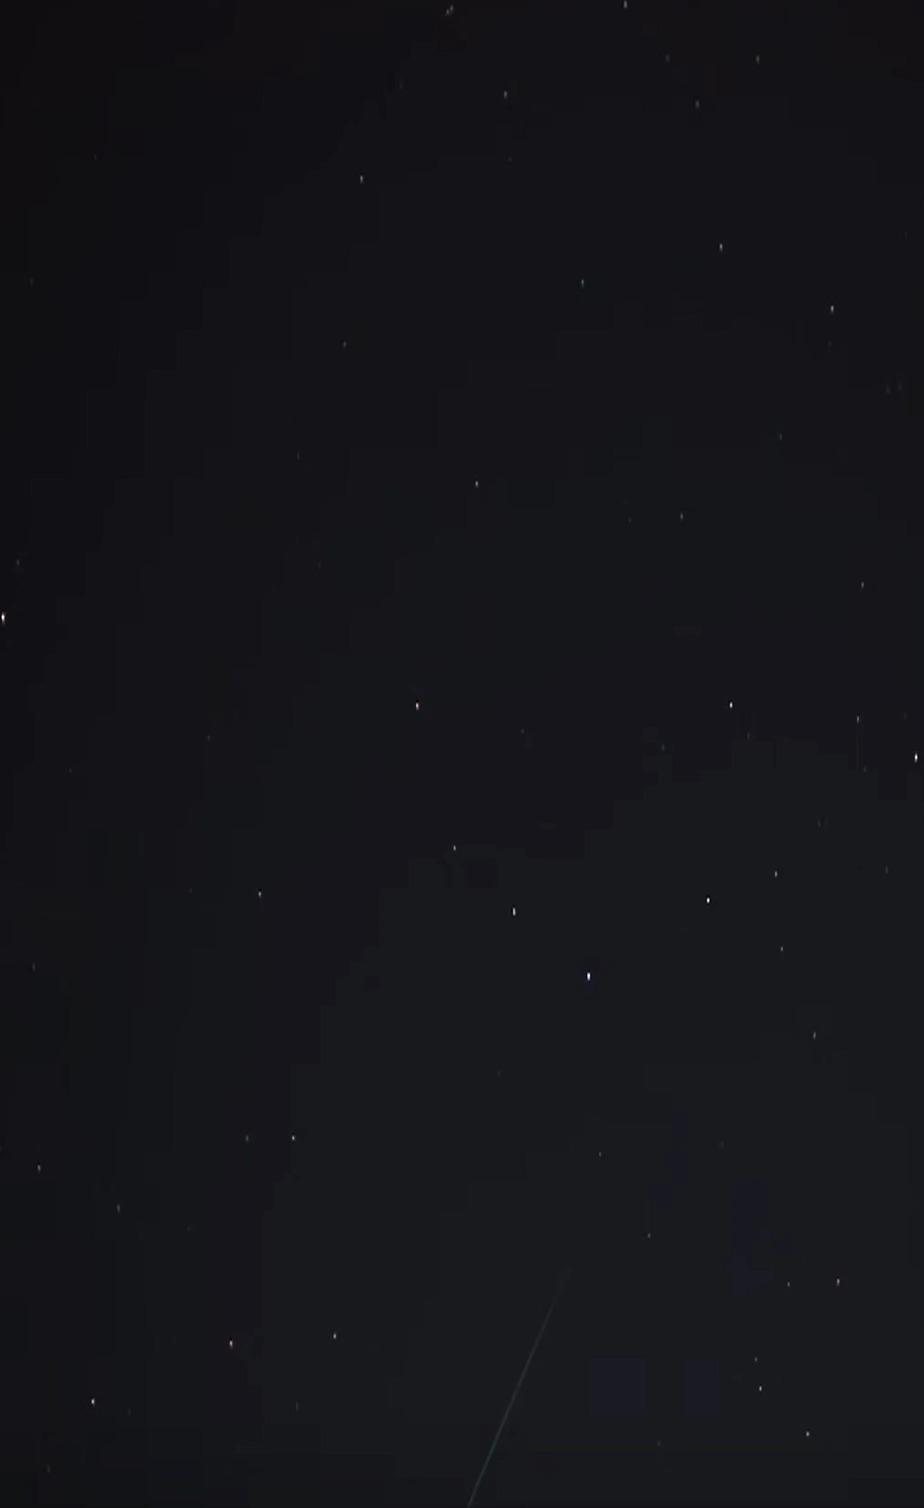meteorite: (430, 1248, 589, 1507)
